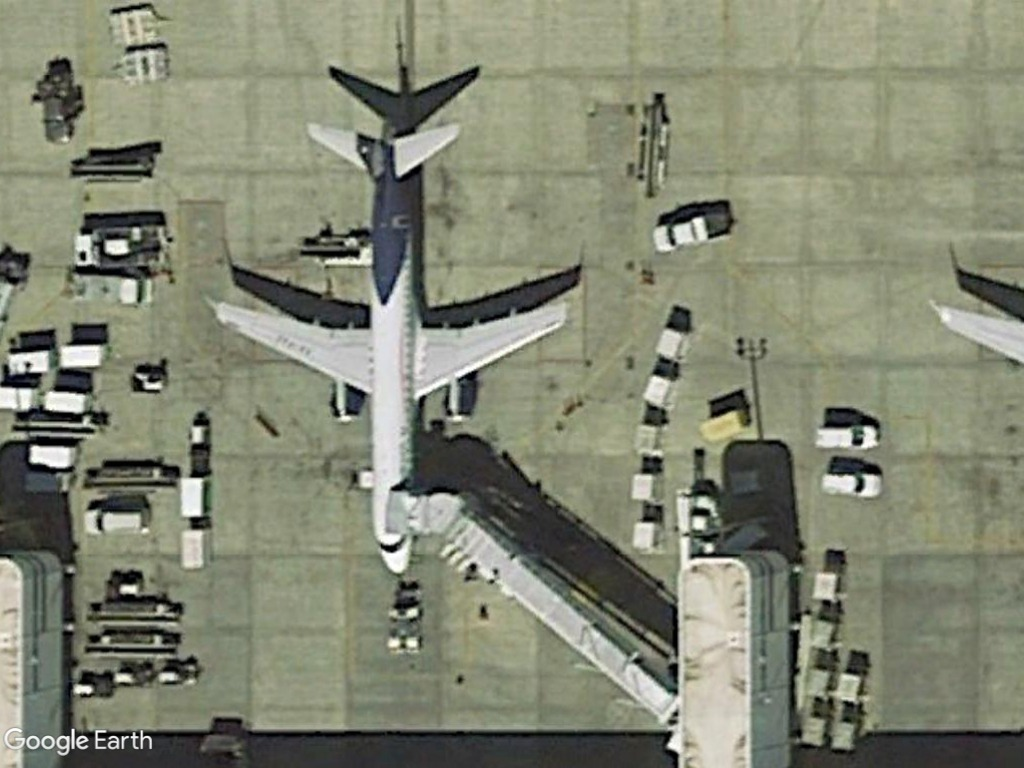airliner: (207, 109, 579, 583)
car: (812, 416, 882, 456), (80, 506, 155, 540), (817, 467, 885, 501)
